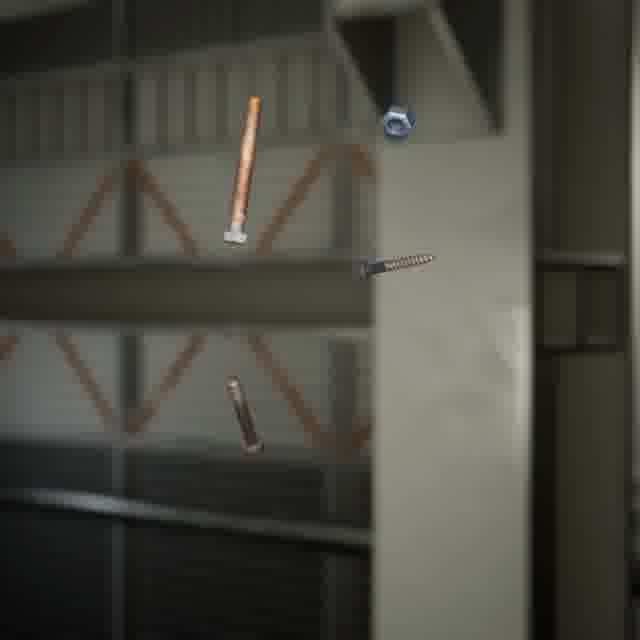bolt: (217, 92, 266, 248), (222, 372, 269, 461), (348, 249, 439, 285)
nut: (375, 101, 419, 142)
